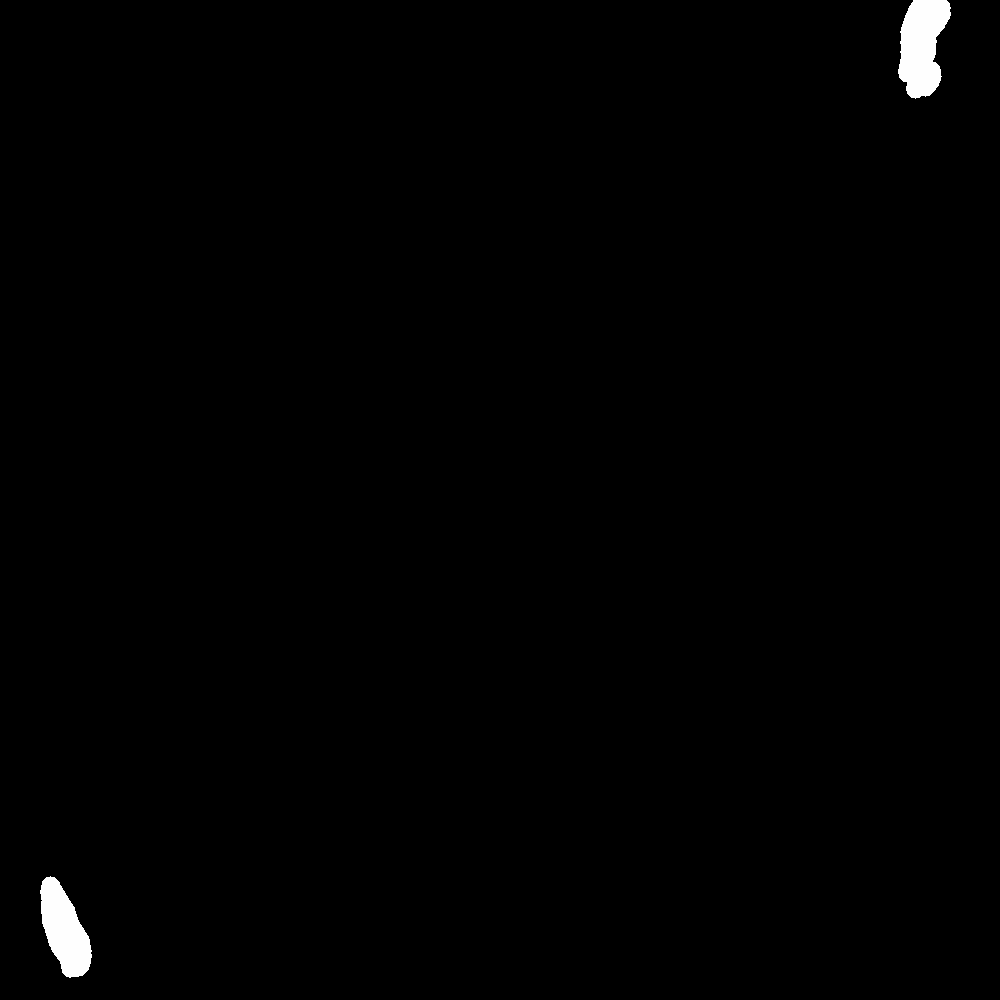illegal: (497, 611, 665, 772), (33, 872, 112, 989), (890, 1, 958, 105)
